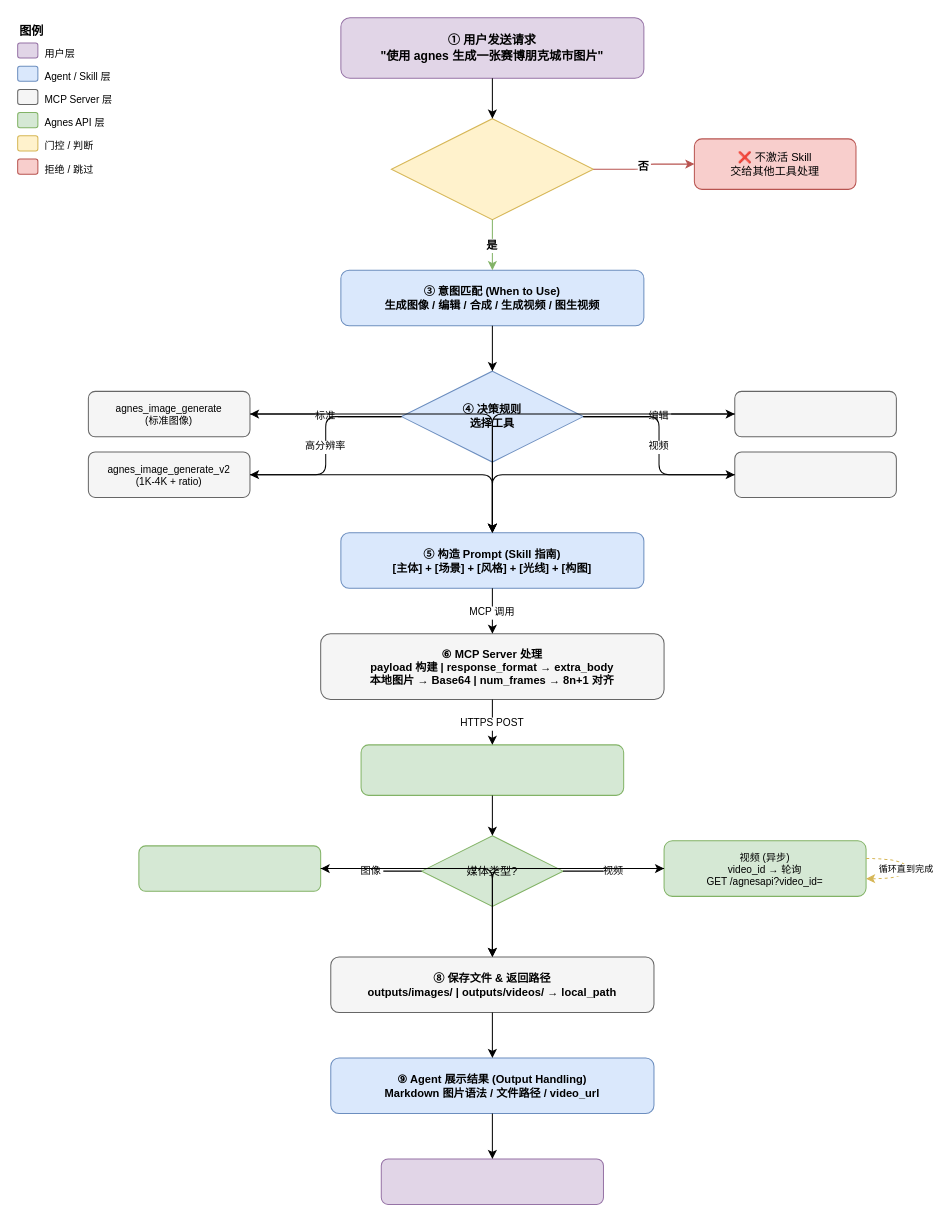
Some shapes in this 952 by 1222 pixel diagram are drawn without their labels. Here are the shapes that lost their labels. From the top down, the centre of each, then its label:
point 491,169: ② 关键字门控 包含 "agnes"？ (不区分大小写)
point 815,413: agnes_image_edit (编辑/合成)
point 815,474: agnes_video_generate / submit + wait
point 492,769: ⑦ Agnes API https://api.agnes-ai.cn/v1
point 229,868: 图像 (同步) 直接返回 b64_json / url
point 491,1181: ⑩ 用户获得媒体文件
